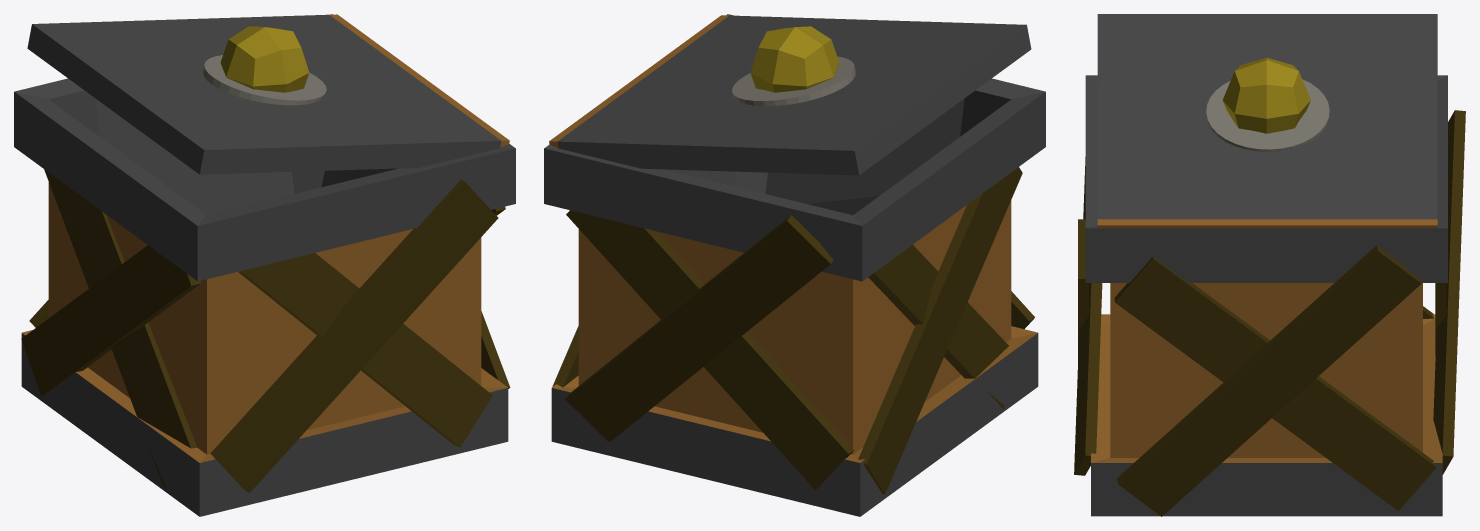
Rendered from crate_wheat.fbx.
3 renders of one model, left to right at view 1: azimuth 30°, elevation 25°; view 2: azimuth 150°, elevation 25°; view 3: azimuth 270°, elevation 25°, orthographic.
Visible parts, largest first — view 1: Crate, Lid, Cube.004, Cube.003, Cube.005, Cube.006, Barley Seed.001, Cylinder, Cube.007; view 2: Crate, Lid, Cube.002, Cube.001, Cube.005, Cube.006, Barley Seed.001, Cylinder, Cube.008; view 3: Lid, Crate, Cube.007, Cube.008, Cube.002, Barley Seed.001, Cube.003, Cylinder, Cube.004, Cube.001.
Boxes of the visible parts, x1,y1,x2,y2 form: Crate: (14,14,515,516); Lid: (27,14,509,174); Cube.004: (210,179,498,493); Cube.003: (238,253,492,447); Cube.005: (21,245,200,396); Cube.006: (44,169,197,487); Barley Seed.001: (220,26,309,92); Cylinder: (202,55,326,105); Cube.007: (481,311,510,388); Crate: (544,14,1045,516); Lid: (549,15,1031,175); Cube.002: (565,215,833,441); Cube.001: (566,210,853,489); Cube.005: (858,167,1022,494); Cube.006: (868,244,1008,408); Barley Seed.001: (750,26,839,92); Cylinder: (732,56,855,106); Cube.008: (552,326,578,387); Lid: (1097,14,1437,228); Crate: (1085,75,1447,516); Cube.007: (1117,245,1421,516); Cube.008: (1114,257,1436,511); Cube.002: (1433,110,1465,474); Barley Seed.001: (1222,57,1310,133); Cube.003: (1074,157,1102,475); Cylinder: (1206,79,1329,151); Cube.004: (1078,219,1088,360); Cube.001: (1435,283,1446,355).
Bounding box in the file's own units: 818 × 905 × 841.
